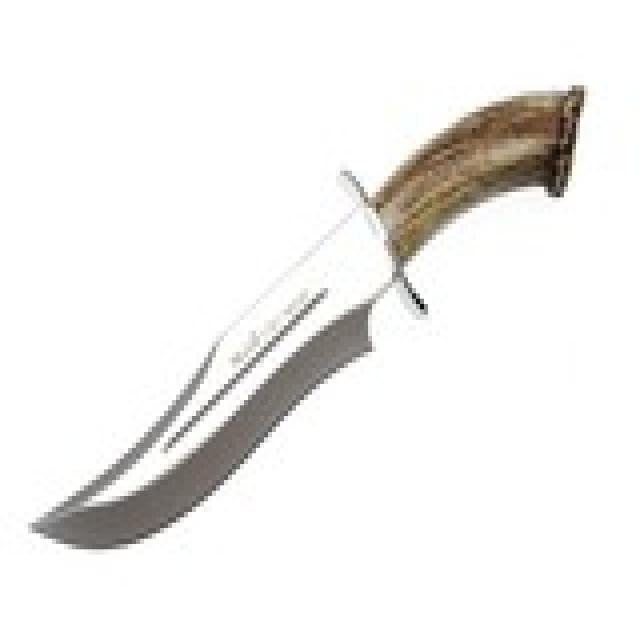Knife: (14, 80, 587, 556)
